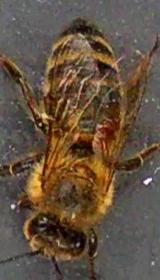varroa_mite: (94, 114, 116, 140)
